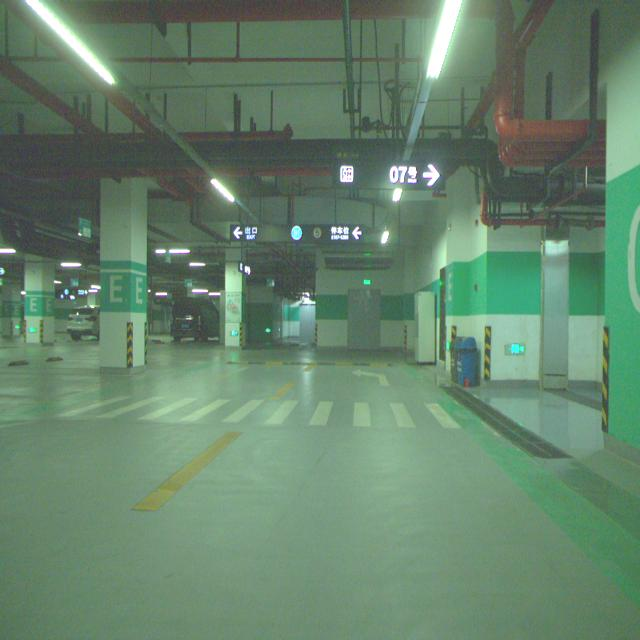pillar: (100, 178, 148, 373), (25, 255, 55, 344)
